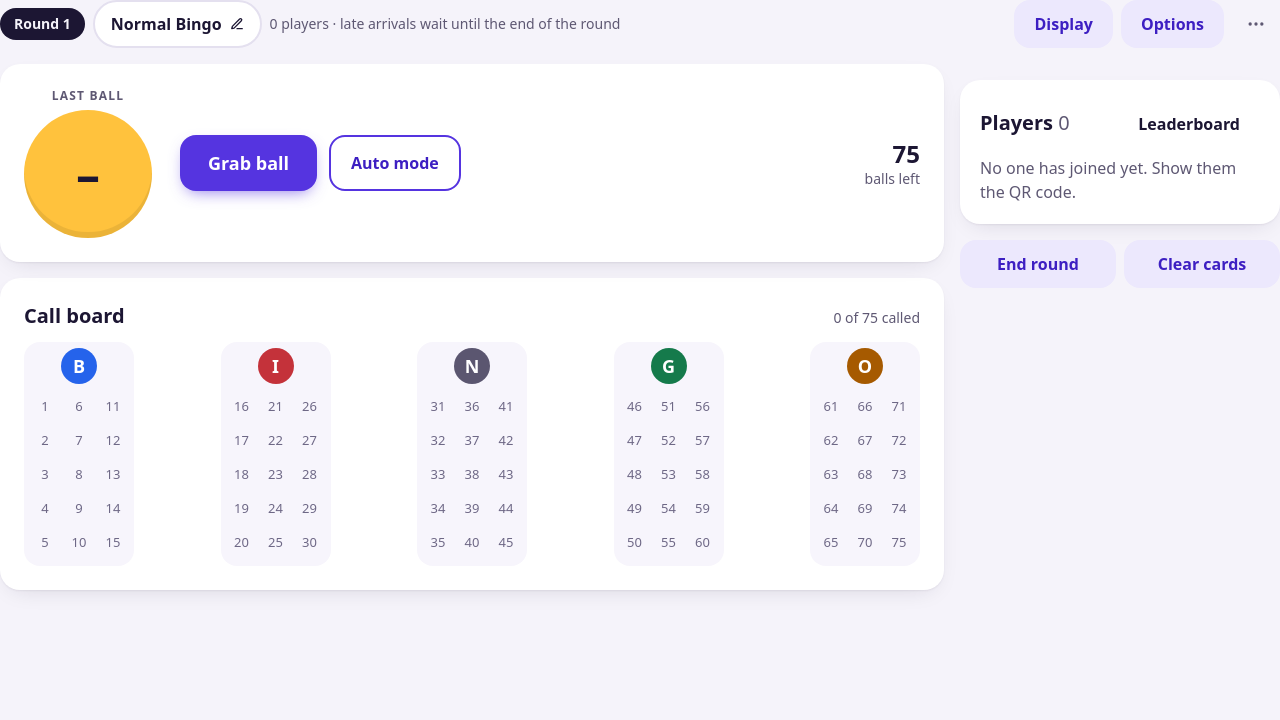
Scenario: Options (FR-32) › locks the between-rounds settings during a round
What coordinates should you click on to do the following:
click the button "Options"
I would click on:
 (1172, 24)
Its box is [1121, 0, 1224, 48].
(page scrolled)
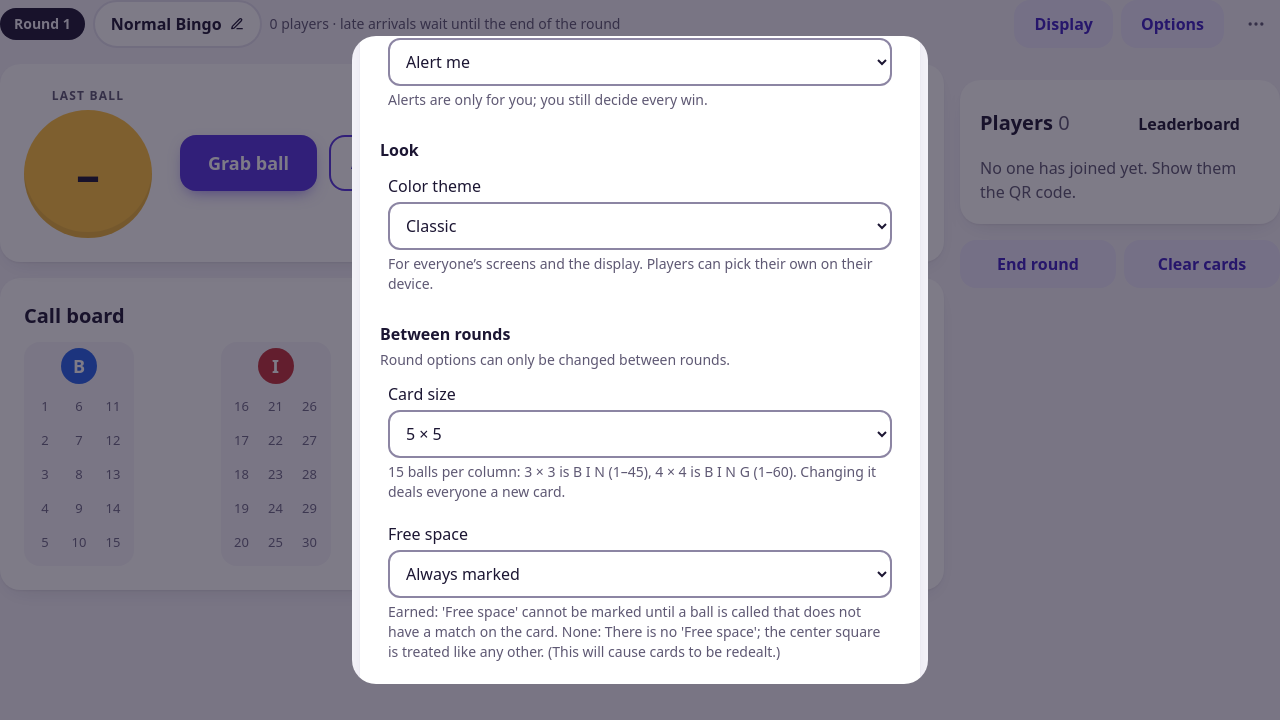
Result: the dropdown labelled "Free space" is disabled at [388, 550, 892, 598]
Result: the text "Round options can only be changed between rounds." is shown at [380, 350, 730, 369]
